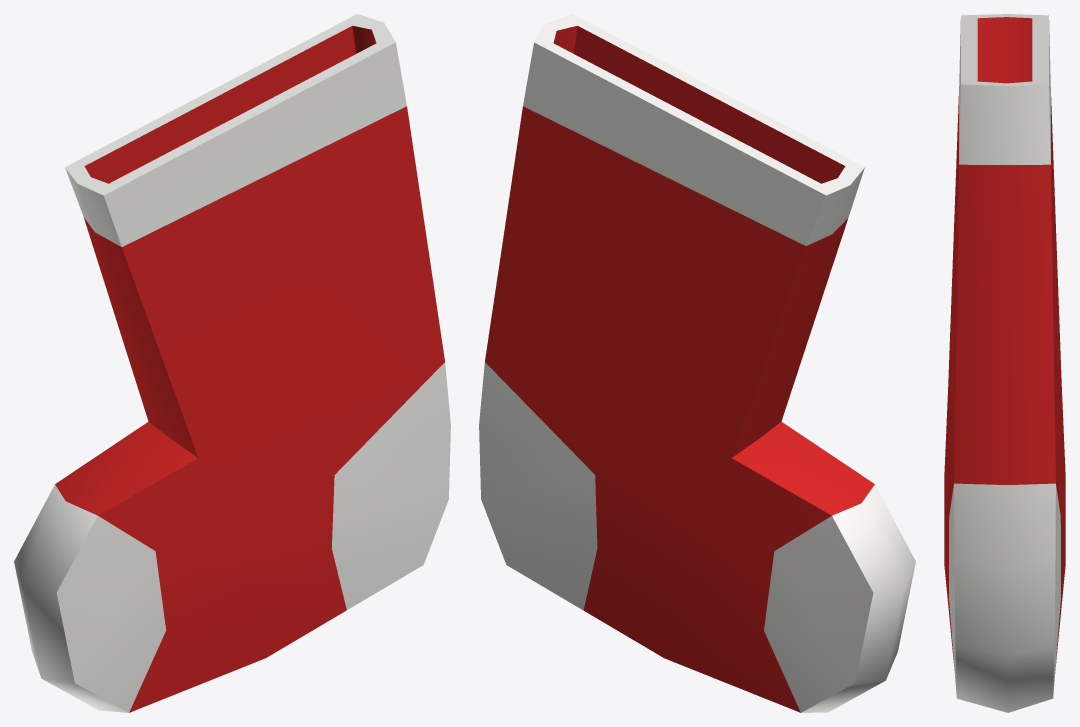
Rendered from Sock_1.glb.
The picture shows the model from 3 angles, left to right: view 1: azimuth 30°, elevation 25°; view 2: azimuth 150°, elevation 25°; view 3: azimuth 270°, elevation 25°; orthographic projection. The views are drawn at different scales.
Parts seen in each view (by area): view 1: Sock_1; view 2: Sock_1; view 3: Sock_1.
Boxes of the visible parts, left/top/right/bottom form: Sock_1: left=14, top=14, right=450, bottom=712; Sock_1: left=479, top=14, right=915, bottom=712; Sock_1: left=944, top=14, right=1065, bottom=712.
Bounding box in the file's own units: 0.236 × 0.3345 × 0.0523.
1 material, 1 textured.
